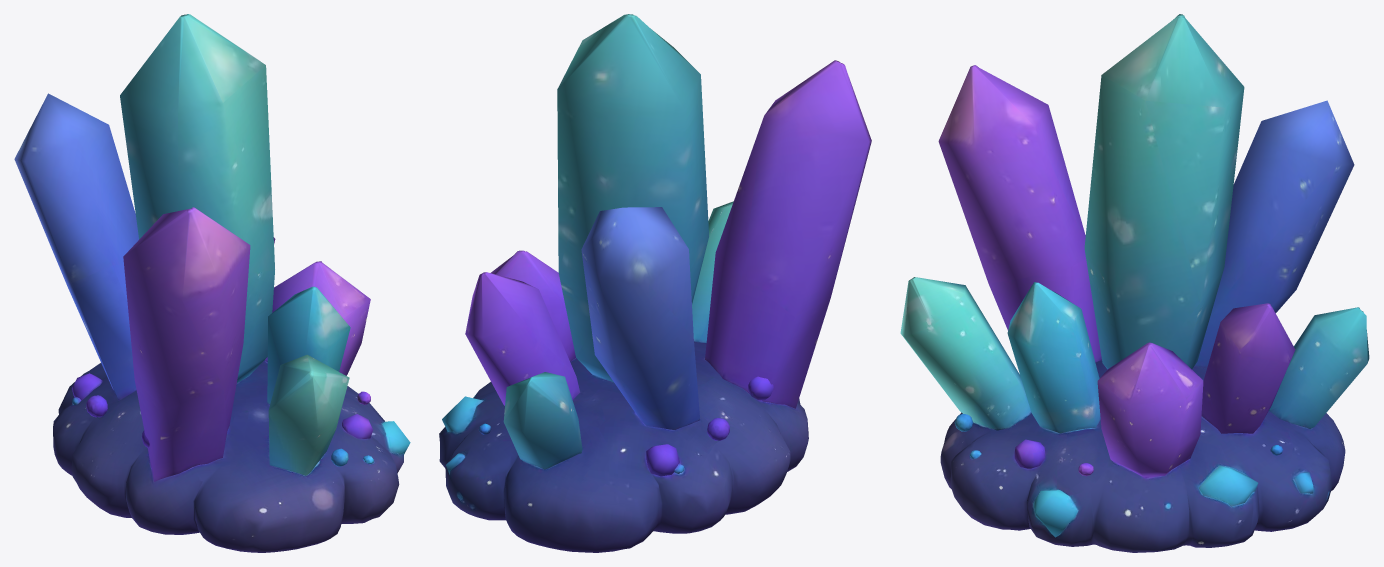
The model's file is gem-cluster.glb.
3 renders of one model, left to right at view 1: azimuth 30°, elevation 25°; view 2: azimuth 150°, elevation 25°; view 3: azimuth 270°, elevation 25°, orthographic. The views are drawn at different scales.
Parts seen in each view (by area): view 1: tripo_node_962148b4-6b61-48b6-be68-bde17728ba4e; view 2: tripo_node_962148b4-6b61-48b6-be68-bde17728ba4e; view 3: tripo_node_962148b4-6b61-48b6-be68-bde17728ba4e.
Boxes of the visible parts, box(x1,y1,x2,y2) form: tripo_node_962148b4-6b61-48b6-be68-bde17728ba4e: box(14, 14, 410, 552); tripo_node_962148b4-6b61-48b6-be68-bde17728ba4e: box(439, 14, 871, 552); tripo_node_962148b4-6b61-48b6-be68-bde17728ba4e: box(900, 14, 1369, 552).
Bounding box in the file's own units: 0.7168 × 0.998 × 0.9161.
1 material, 1 textured.
